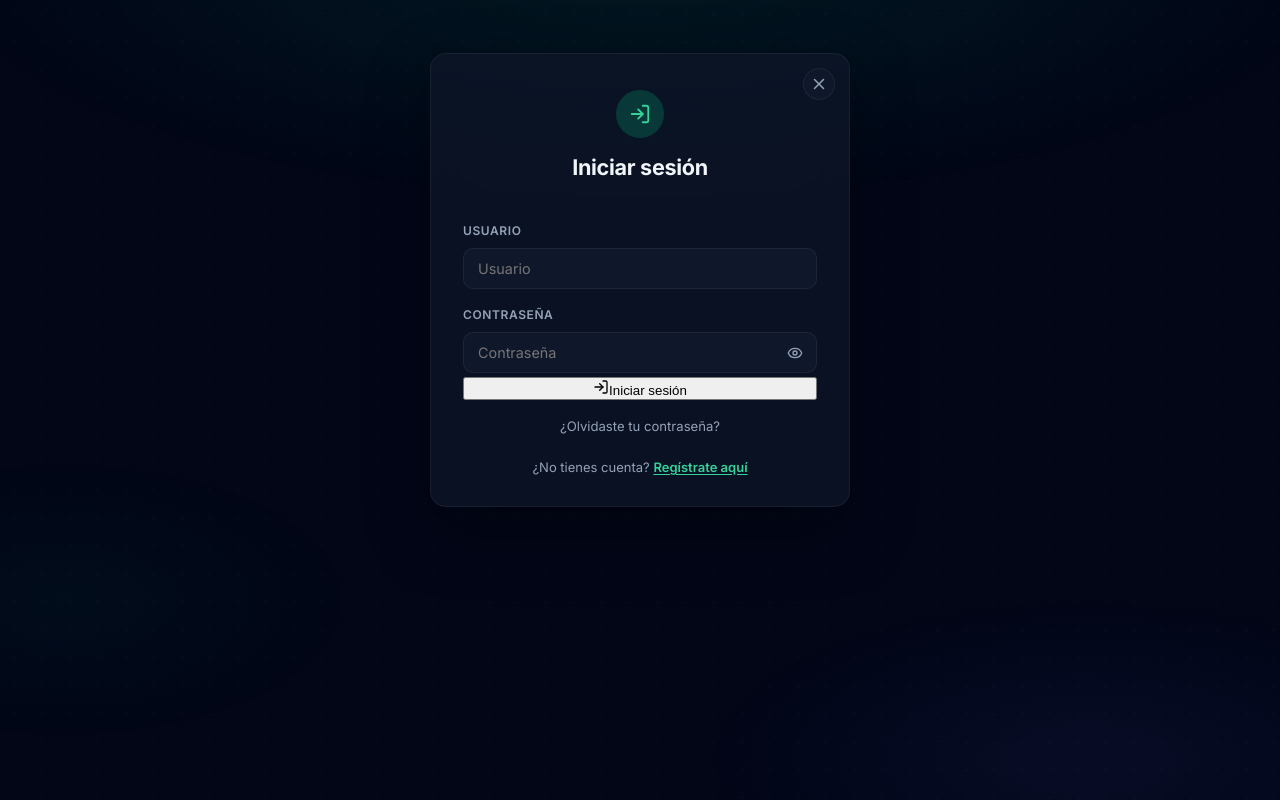
Test case: Auth › muestra error genérico cuando el error no tiene mensaje
Type "u" into the field with placeholder "Usuario" at (640, 268), box [463,248,817,289]
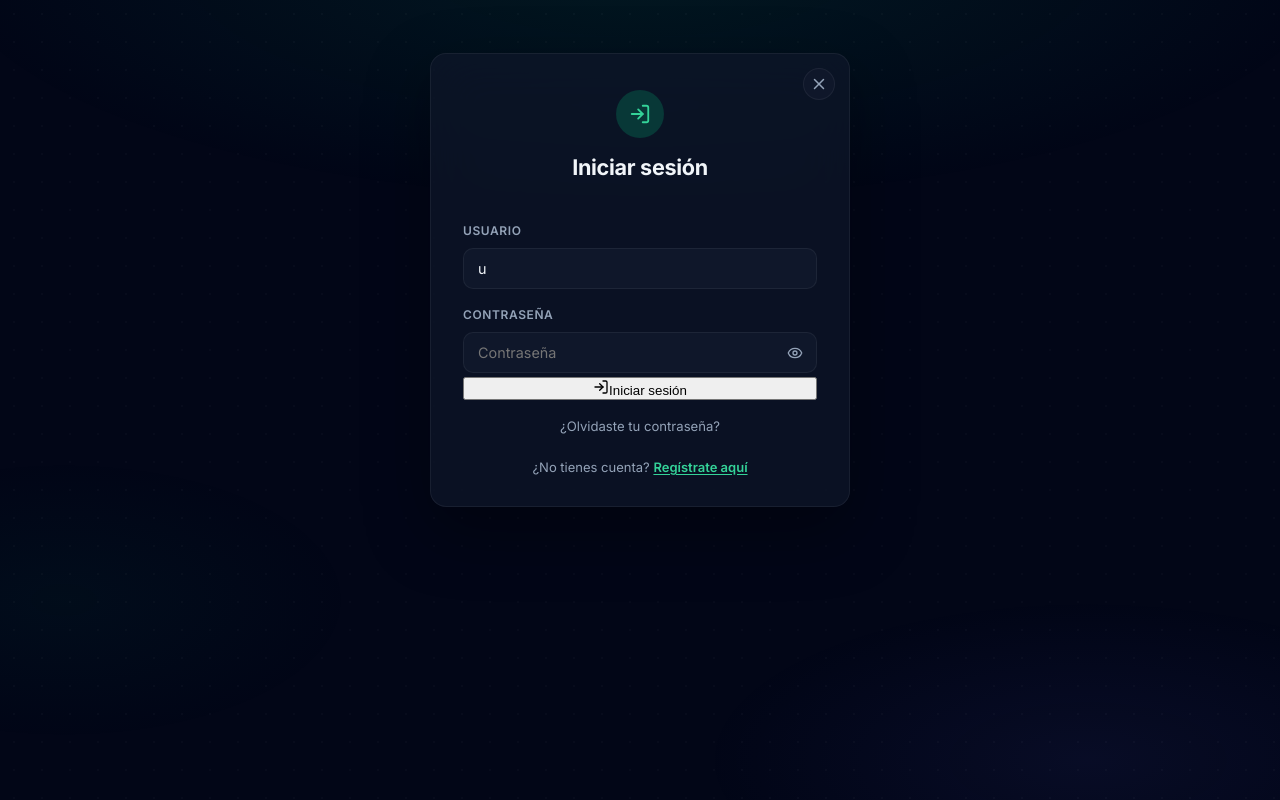
Type "p" into the password field with placeholder "Contraseña" at (640, 353), box [463,332,817,373]
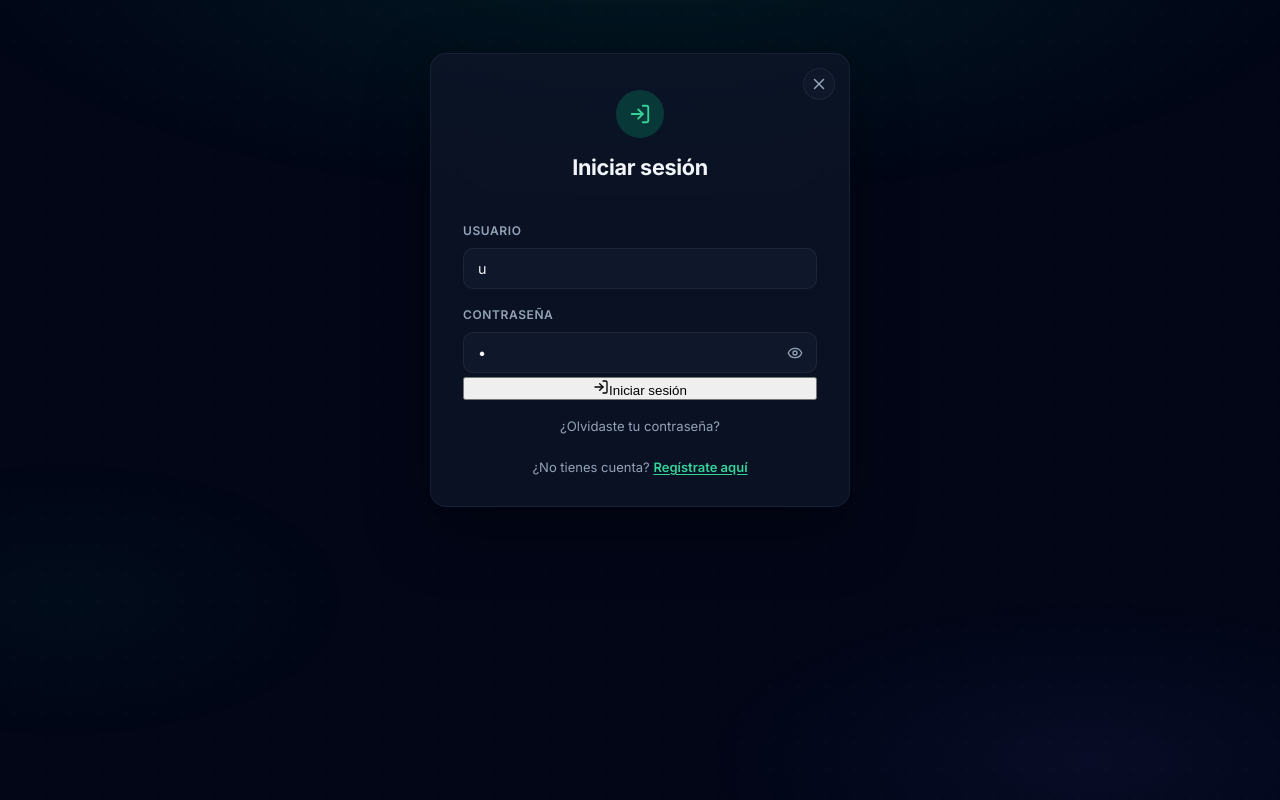
Submit the form from the button "Iniciar sesión", box [463,377,817,400]
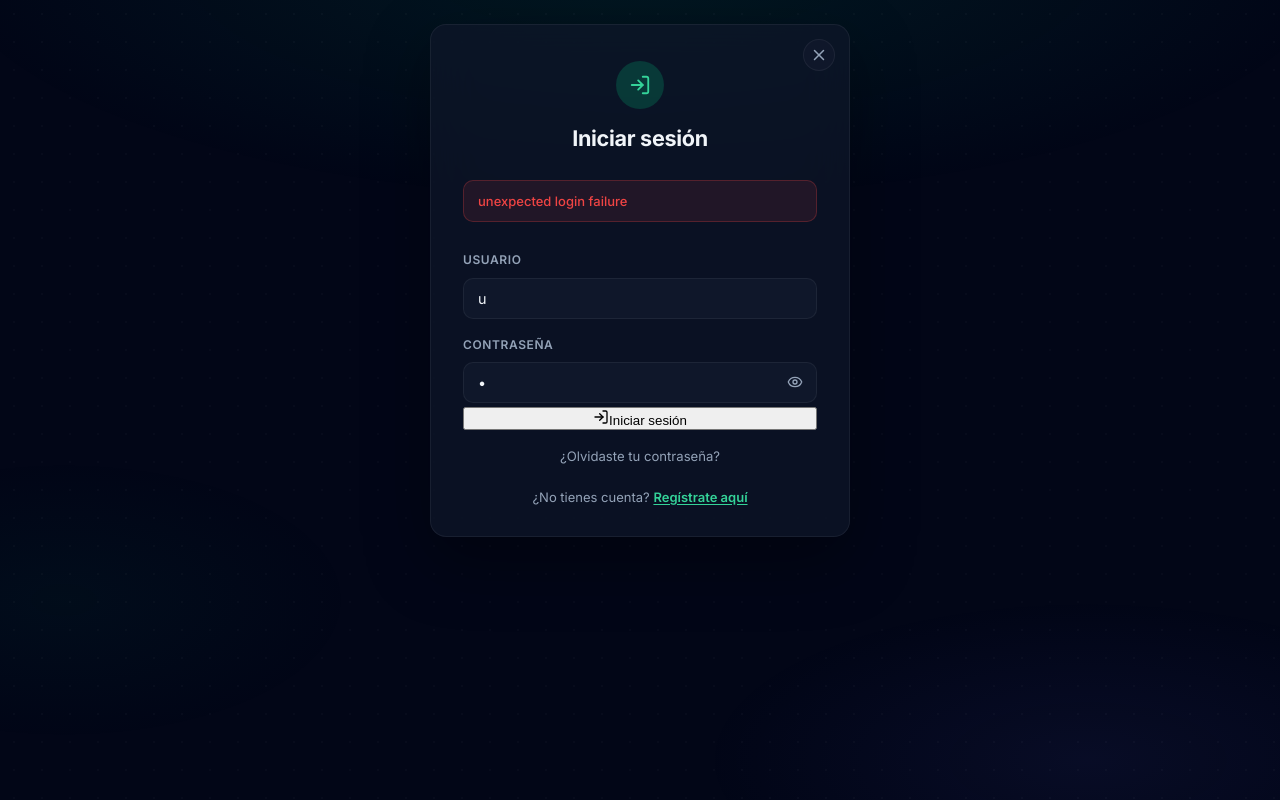
Now the text "unexpected login failure" is shown, box [463,180,817,222]
